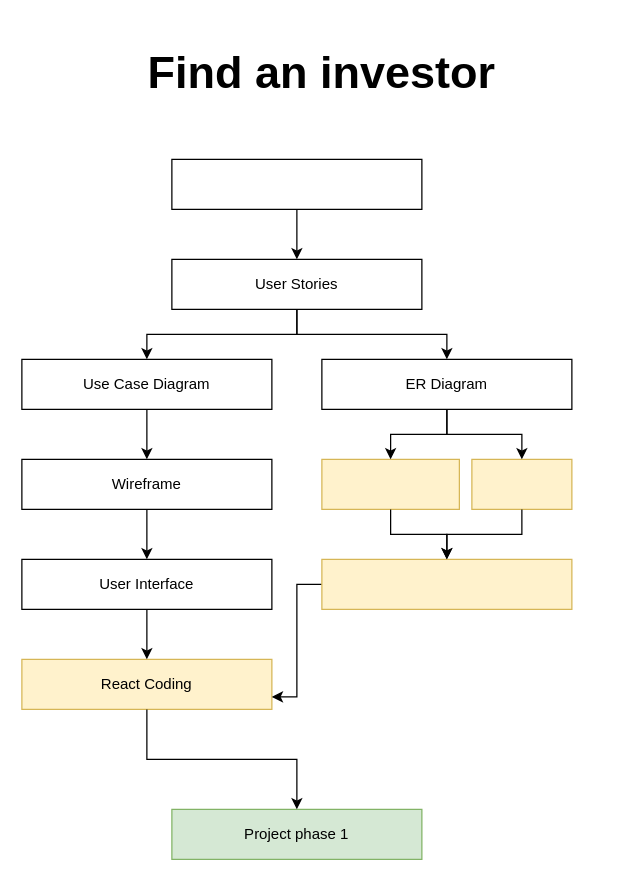
Some shapes in this 619 by 881 pixel diagram are drawn without their labels. The shapes that lost their labels are listed below. From the top down, each one's centre as x and y in pixels, then its label:
the point at 296,183: Requirement analysis
the point at 390,483: Spring REST API
the point at 521,483: Database
the point at 446,583: Backend
